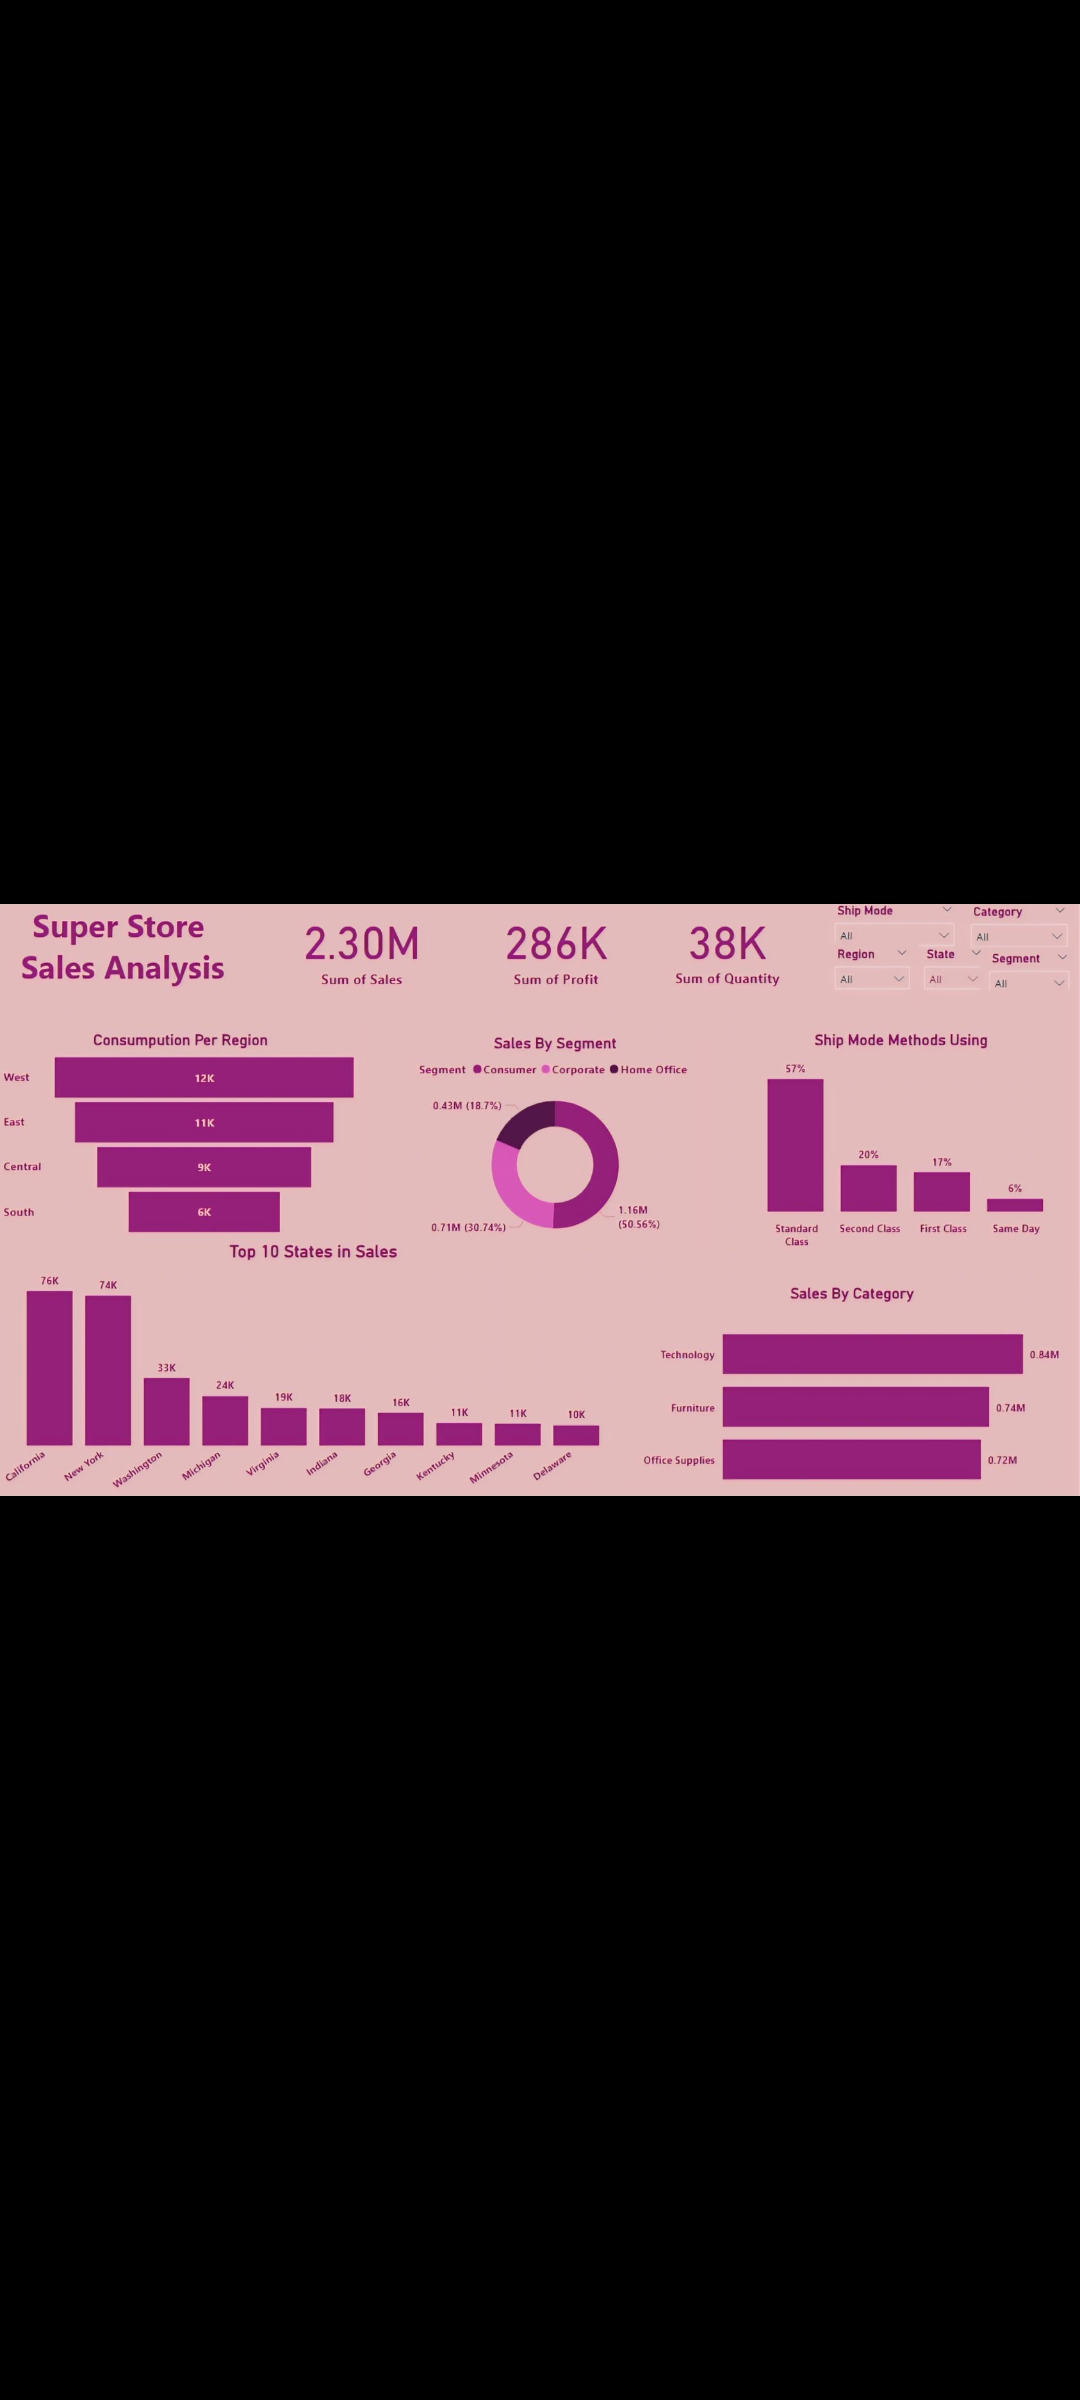

What the dashboard file says about the page in this screenshot:
{"tool":"powerbi","page":{"name":"Page 1","canvas":[1280,720],"ordinal":0},"visuals":[{"type":"clusteredBarChart","title":" Sales By Category","fields":{"Category":["Superstore_Project.Category"],"Y":["Sum(Superstore_Project.Sales)"]},"box":[757.6,456.5,507.3,264],"z":0},{"type":"donutChart","title":" Sales By Segment","fields":{"Category":["Superstore_Project.Segment"],"Y":["Sum(Superstore_Project.Sales)"]},"box":[484,159.5,350.6,259.8],"z":1000},{"type":"clusteredColumnChart","title":"Top 10 States in Sales","fields":{"Category":["Superstore_Project.State"],"Y":["Sum(Superstore_Project.Profit)"]},"box":[0,405.6,745.2,314.8],"z":2000},{"type":"clusteredColumnChart","title":" Ship Mode Methods Using","fields":{"Category":["Superstore_Project.Ship Mode"],"Y":["Divide(Sum(Superstore_Project.Profit), ScopedEval(Sum(Superstore_Project.Profit), []))"]},"box":[857.9,156.7,422.1,265.3],"z":3000},{"type":"funnel","title":"Consumpution Per Region","fields":{"Category":["Superstore_Project.Region"],"Y":["Sum(Superstore_Project.Quantity)"]},"box":[0,156.7,430.3,248.9],"z":4000},{"type":"card","fields":{"Values":["Sum(Superstore_Project.Sales)"]},"box":[292.8,0,273.6,111.4],"z":5000},{"type":"card","fields":{"Values":["Sum(Superstore_Project.Quantity)"]},"box":[757.4,0,211.6,111],"z":6000},{"type":"card","fields":{"Values":["Sum(Superstore_Project.Profit)"]},"box":[541.7,0,236.5,111.4],"z":7000},{"type":"textbox","box":[0,0,293,150],"z":8000},{"type":"slicer","fields":{"Values":["Superstore_Project.State"]},"box":[1086.1,52.2,90.7,56.4],"z":9000},{"type":"slicer","fields":{"Values":["Superstore_Project.Ship Mode"]},"box":[980.3,0,162.2,56.4],"z":10000},{"type":"slicer","fields":{"Values":["Superstore_Project.Category"]},"box":[1142.5,1.4,134.7,55],"z":11000},{"type":"slicer","fields":{"Values":["Superstore_Project.Region"]},"box":[980.3,52.2,108.6,71.5],"z":12000},{"type":"slicer","fields":{"Values":["Superstore_Project.Segment"]},"box":[1164.5,56.4,115.5,52.2],"z":13000}]}

Visuals, with their boxes on the page's 1280x720 design canvas (x1, y1, x2, y2). These are canvas units, not pixel positions in the 1080x2400 screenshot, which may show the page scaled, cropped or inside an application window:
" Sales By Category" clusteredBarChart: Rect(758, 456, 1265, 720)
" Sales By Segment" donutChart: Rect(484, 160, 835, 419)
"Top 10 States in Sales" clusteredColumnChart: Rect(0, 406, 745, 720)
" Ship Mode Methods Using" clusteredColumnChart: Rect(858, 157, 1280, 422)
"Consumpution Per Region" funnel: Rect(0, 157, 430, 406)
card - Sum(Superstore_Project.Sales): Rect(293, 0, 566, 111)
card - Sum(Superstore_Project.Quantity): Rect(757, 0, 969, 111)
card - Sum(Superstore_Project.Profit): Rect(542, 0, 778, 111)
textbox: Rect(0, 0, 293, 150)
slicer - Superstore_Project.State: Rect(1086, 52, 1177, 109)
slicer - Superstore_Project.Ship Mode: Rect(980, 0, 1142, 56)
slicer - Superstore_Project.Category: Rect(1142, 1, 1277, 56)
slicer - Superstore_Project.Region: Rect(980, 52, 1089, 124)
slicer - Superstore_Project.Segment: Rect(1164, 56, 1280, 109)
